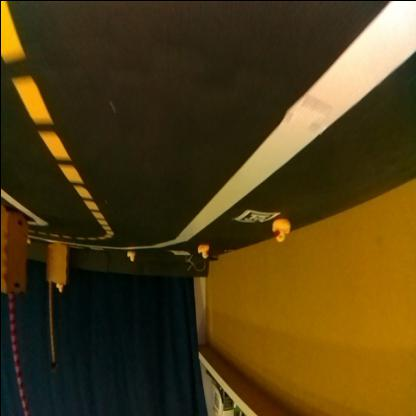Duckie: (271, 219, 289, 240), (198, 244, 204, 258), (126, 252, 133, 260), (56, 284, 62, 292)
QR code: (236, 210, 278, 222)
